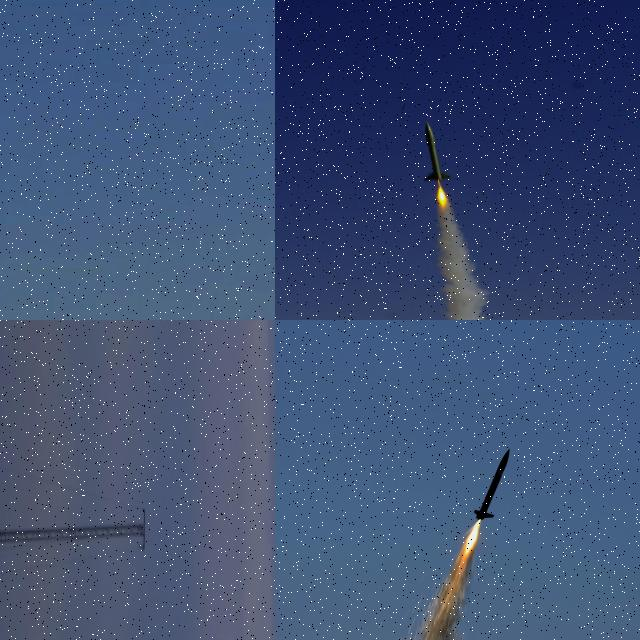Rocket: (473, 448, 510, 521), (423, 120, 452, 182)
